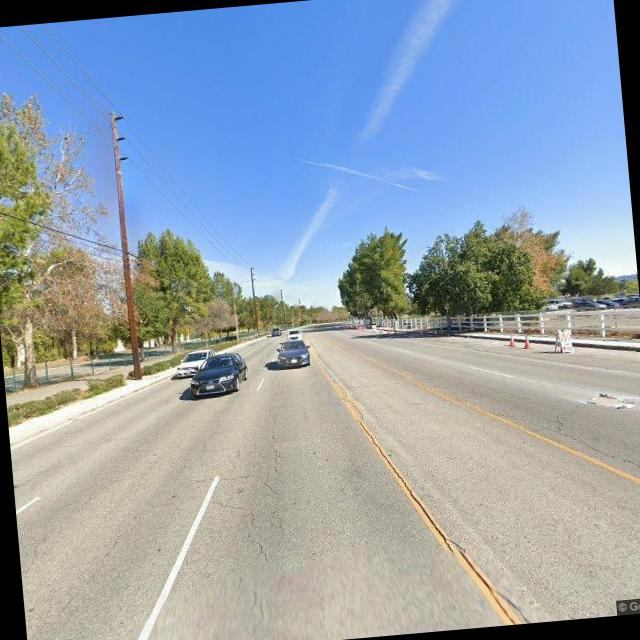crack: (200, 442, 298, 568)
pothole: (346, 398, 523, 636), (546, 406, 640, 497)
